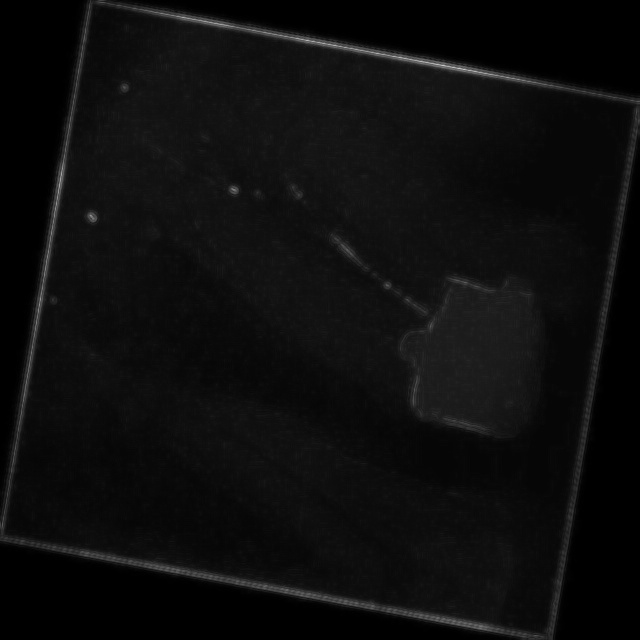Class 2- incomplete endodontic treatment: (114, 74, 611, 467)
